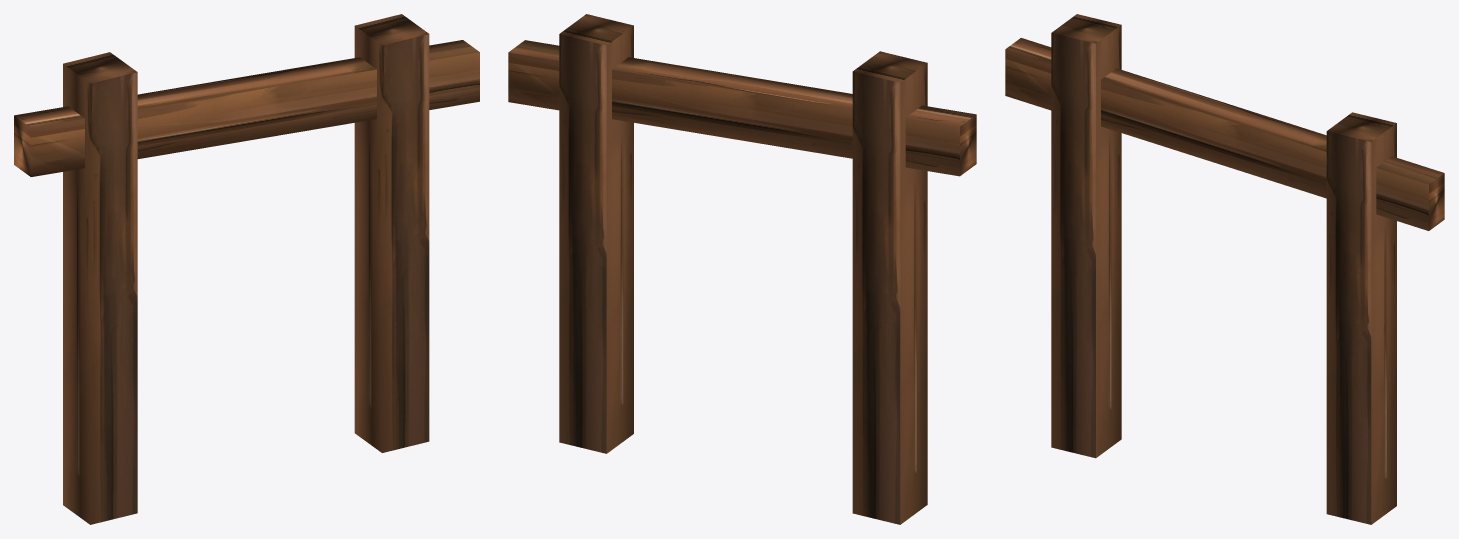
The model's file is ARC0710008.fbx.
3 renders of one model, left to right at view 1: azimuth 30°, elevation 25°; view 2: azimuth 150°, elevation 25°; view 3: azimuth 330°, elevation 25°, orthographic. The views are drawn at different scales.
Visible parts, largest first — view 1: smARC0710008; view 2: smARC0710008; view 3: smARC0710008.
Boxes of the visible parts, bbox=[...] form: smARC0710008: bbox=[14, 14, 479, 524]; smARC0710008: bbox=[508, 14, 976, 524]; smARC0710008: bbox=[1005, 14, 1444, 524].
Bounding box in the file's own units: 407 × 382 × 43.92.
1 material, 1 textured.
